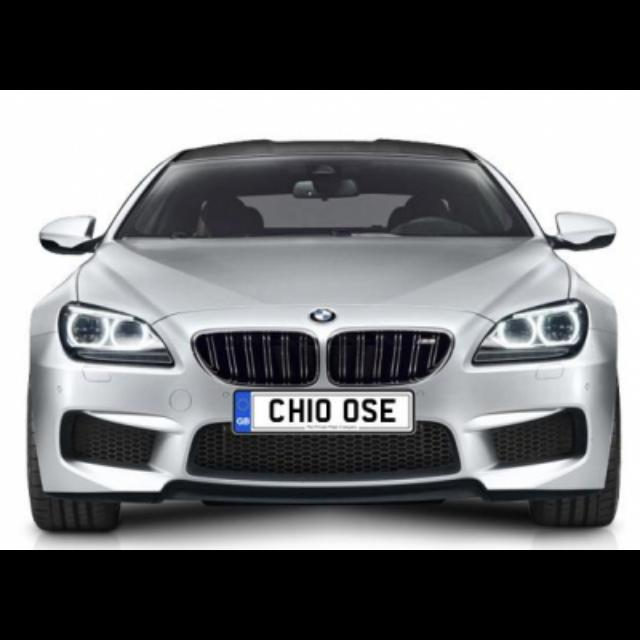carPlate: (233, 391, 414, 434)
